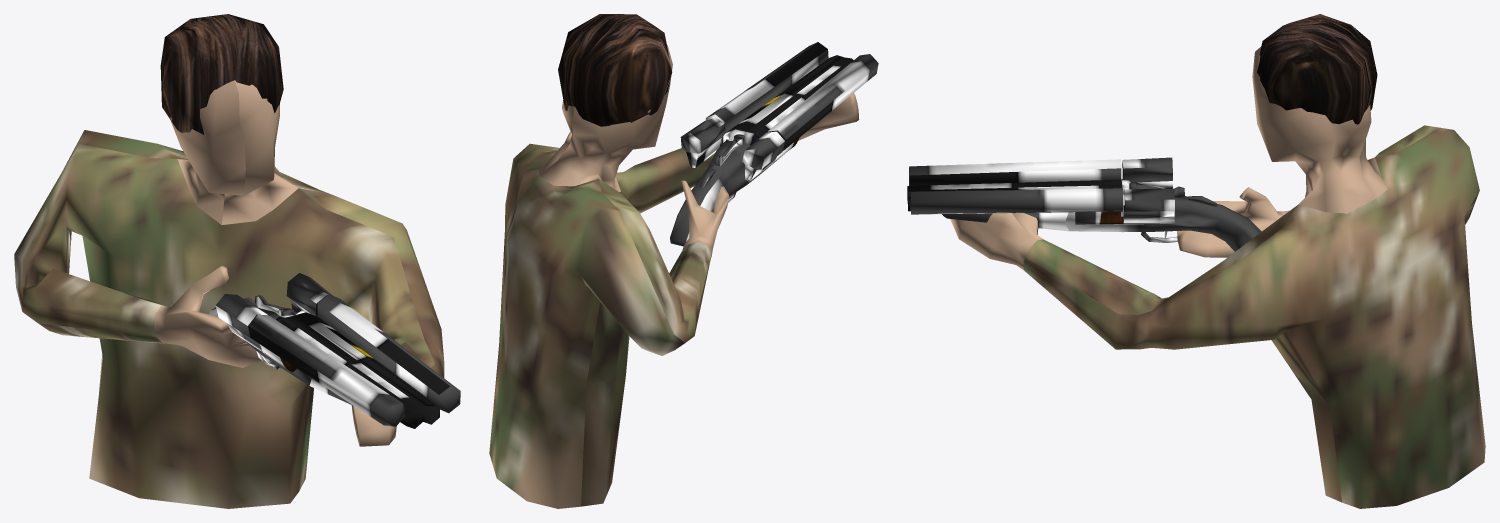
File: PlayerShotgun.obj
3 renders of one model, left to right at view 1: azimuth 30°, elevation 25°; view 2: azimuth 150°, elevation 25°; view 3: azimuth 270°, elevation 25°, orthographic. The views are drawn at different scales.
Visible parts, largest first — view 1: Shotgun; view 2: Shotgun; view 3: Shotgun.
Part boxes in pixels (x1,y1,x2,y2): Shotgun: (14, 14, 460, 508); Shotgun: (489, 14, 878, 508); Shotgun: (907, 14, 1485, 508).
Bounding box in the file's own units: 0.1463 × 0.2403 × 0.284.
